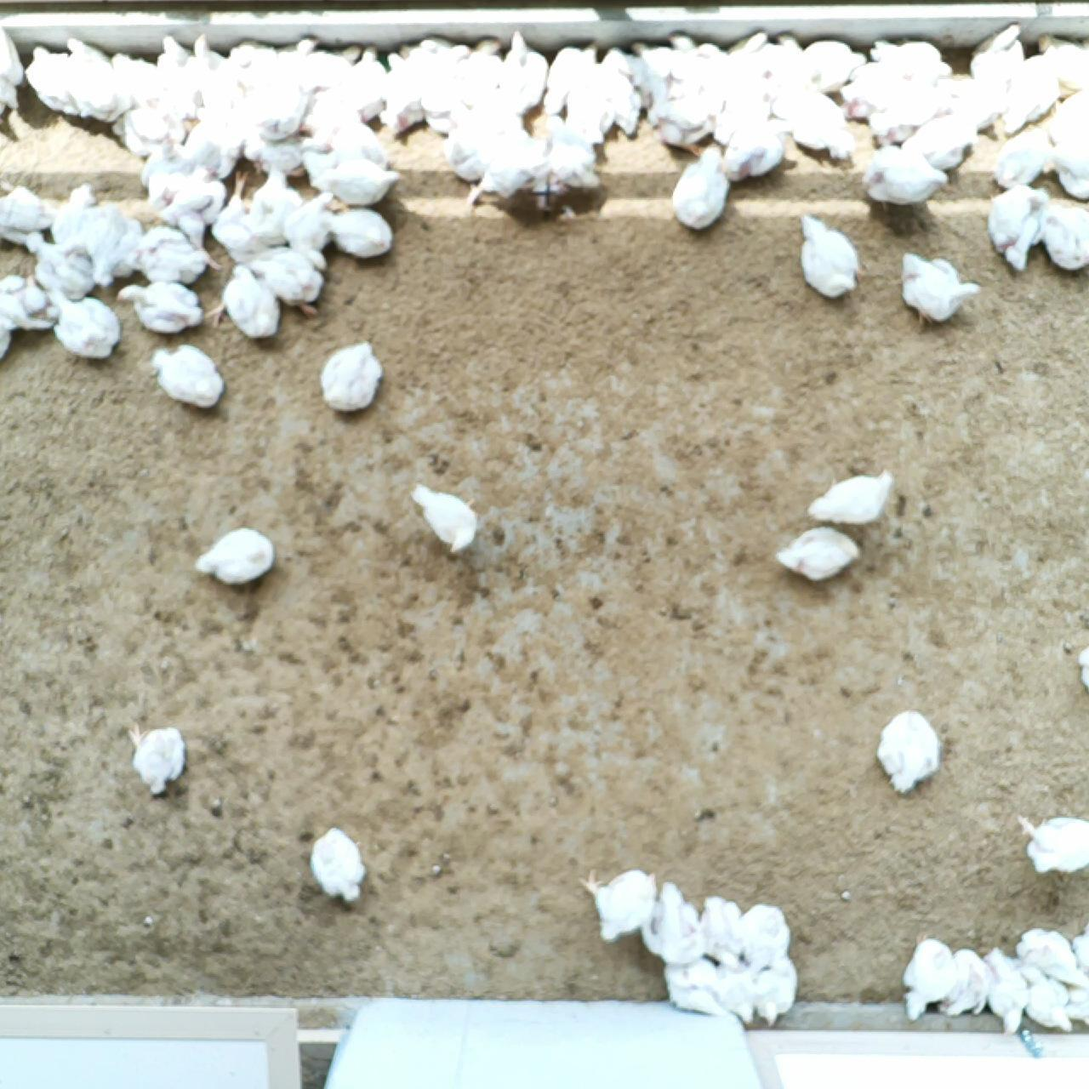chicken: (443, 110, 536, 203), (772, 71, 849, 160), (219, 184, 291, 265), (904, 254, 979, 330), (722, 38, 792, 117), (984, 188, 1046, 273), (880, 709, 938, 799), (861, 151, 952, 208), (53, 287, 126, 358), (580, 870, 656, 938), (672, 143, 729, 231), (892, 117, 981, 173), (147, 163, 216, 235), (301, 145, 385, 203), (67, 37, 126, 119), (544, 43, 606, 121), (643, 37, 710, 109), (841, 62, 921, 122), (801, 218, 858, 300), (407, 486, 479, 549), (996, 57, 1058, 130), (117, 279, 201, 332), (210, 270, 277, 336), (436, 37, 506, 100), (811, 470, 894, 522), (972, 956, 1026, 1035), (902, 938, 955, 1018), (152, 345, 220, 407), (1018, 931, 1086, 992), (1018, 960, 1074, 1034), (643, 889, 697, 965), (653, 86, 727, 141), (310, 829, 365, 903), (1018, 817, 1089, 874), (251, 248, 322, 305), (197, 530, 273, 582), (128, 721, 185, 790), (188, 112, 249, 176), (382, 51, 429, 134), (720, 119, 785, 179), (991, 128, 1055, 188), (735, 908, 795, 972), (744, 962, 804, 1025), (323, 343, 380, 409), (138, 230, 212, 280), (781, 530, 858, 578), (29, 237, 88, 299), (94, 209, 144, 282), (665, 959, 729, 1016), (29, 48, 81, 117), (1037, 207, 1087, 278), (710, 953, 759, 1025), (246, 104, 295, 175), (319, 209, 393, 256), (342, 48, 393, 115), (947, 949, 995, 1019), (538, 117, 588, 183), (693, 898, 743, 964), (300, 98, 362, 151), (191, 37, 235, 105), (58, 188, 102, 255), (1, 282, 42, 353), (117, 60, 163, 123), (606, 51, 641, 133), (153, 43, 197, 108), (237, 48, 282, 109), (1, 189, 46, 250), (125, 112, 182, 157), (294, 198, 342, 250)
